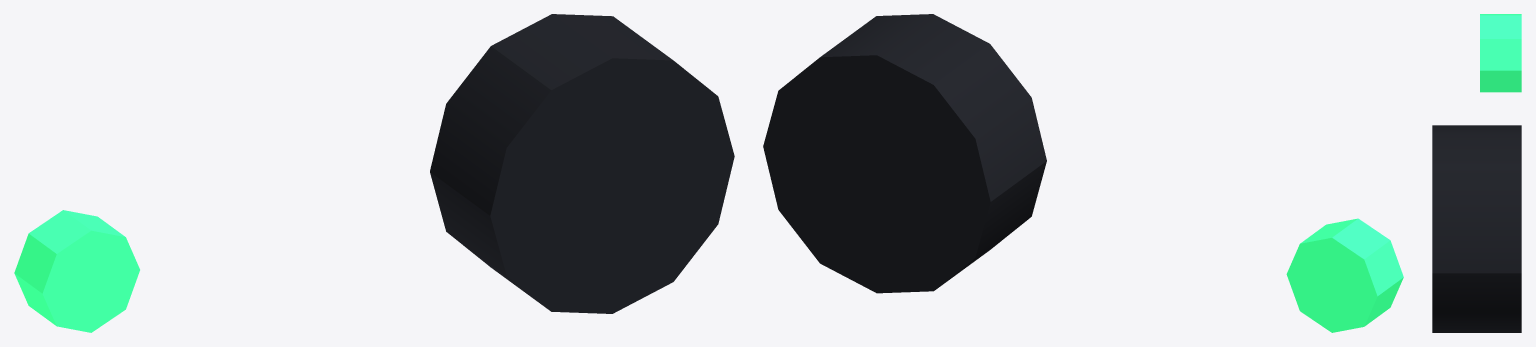
File: MonitorDetail.fbx
The picture shows the model from 3 angles, left to right: view 1: azimuth 30°, elevation 25°; view 2: azimuth 150°, elevation 25°; view 3: azimuth 270°, elevation 25°; orthographic projection. The views are drawn at different scales.
Parts seen in each view (by area): view 1: MonitorDetail; view 2: MonitorDetail; view 3: MonitorDetail.
Boxes of the visible parts, box(x1,y1,x2,y2) form: MonitorDetail: box(14, 14, 734, 332); MonitorDetail: box(763, 14, 1403, 332); MonitorDetail: box(1432, 14, 1521, 332).
Bounding box in the file's own units: 0.0189 × 0.007 × 0.003.
